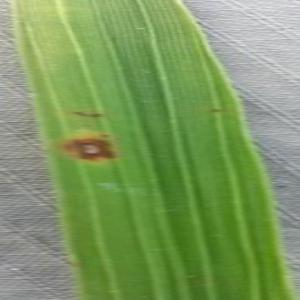Brown_Spot: (53, 123, 122, 173), (67, 104, 109, 125), (207, 102, 228, 119)
